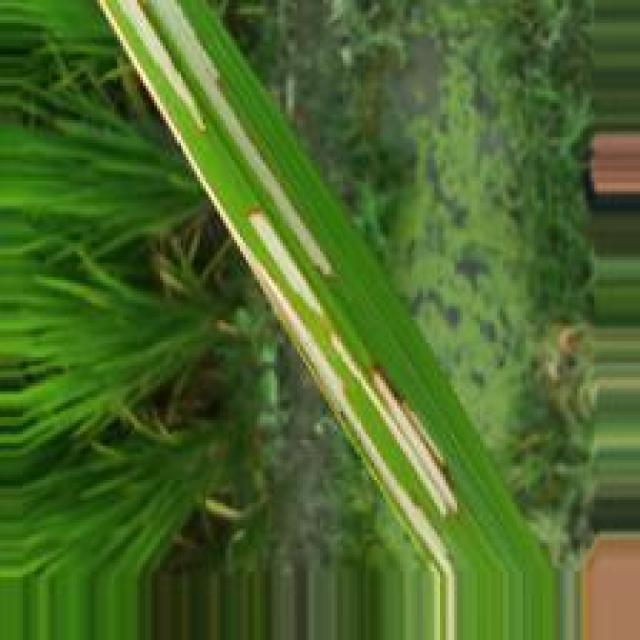Rice_Hispa: (98, 2, 458, 640), (143, 4, 339, 273), (329, 336, 466, 516), (246, 211, 334, 323)
